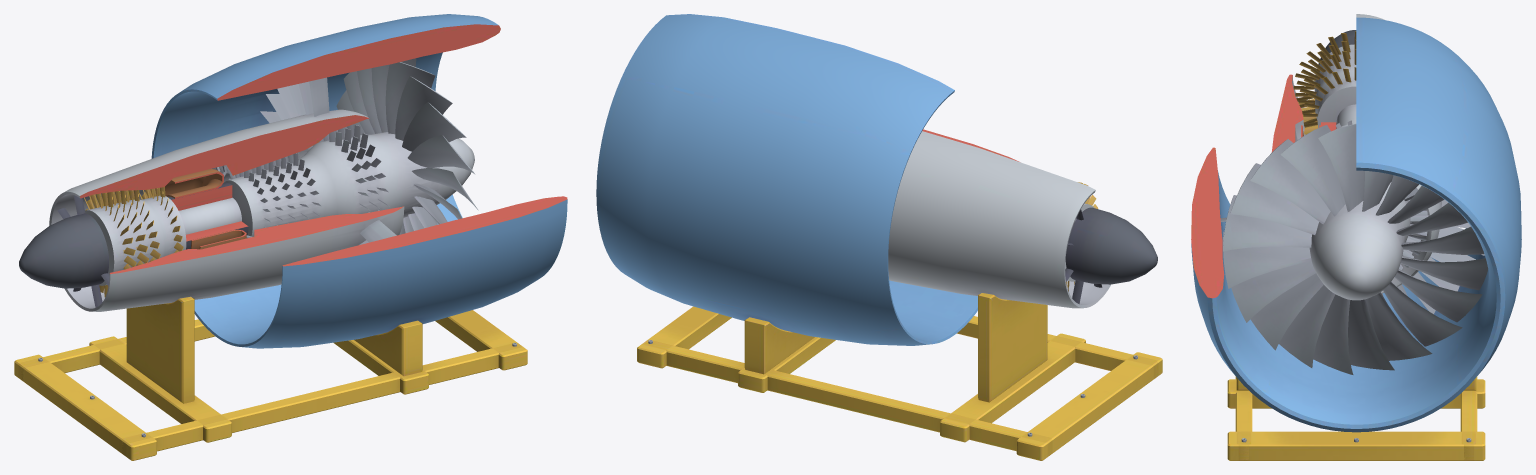
The model's file is jet-engine.glb.
3 renders of one model, left to right at view 1: azimuth 30°, elevation 25°; view 2: azimuth 150°, elevation 25°; view 3: azimuth 270°, elevation 25°, orthographic. The views are drawn at different scales.
Visible parts, largest first — view 1: jet-engine_body, jet-engine_rotor; view 2: jet-engine_body; view 3: jet-engine_body, jet-engine_rotor.
Part boxes in pixels (<box>): jet-engine_body: <box>14,14,567,460</box>; jet-engine_rotor: <box>84,58,478,296</box>; jet-engine_body: <box>596,14,1162,460</box>; jet-engine_body: <box>1191,14,1521,460</box>; jet-engine_rotor: <box>1223,31,1488,374</box>.
Size of the model in its own units: 3.66 by 2.2 by 2.
2 materials, 2 textured.
